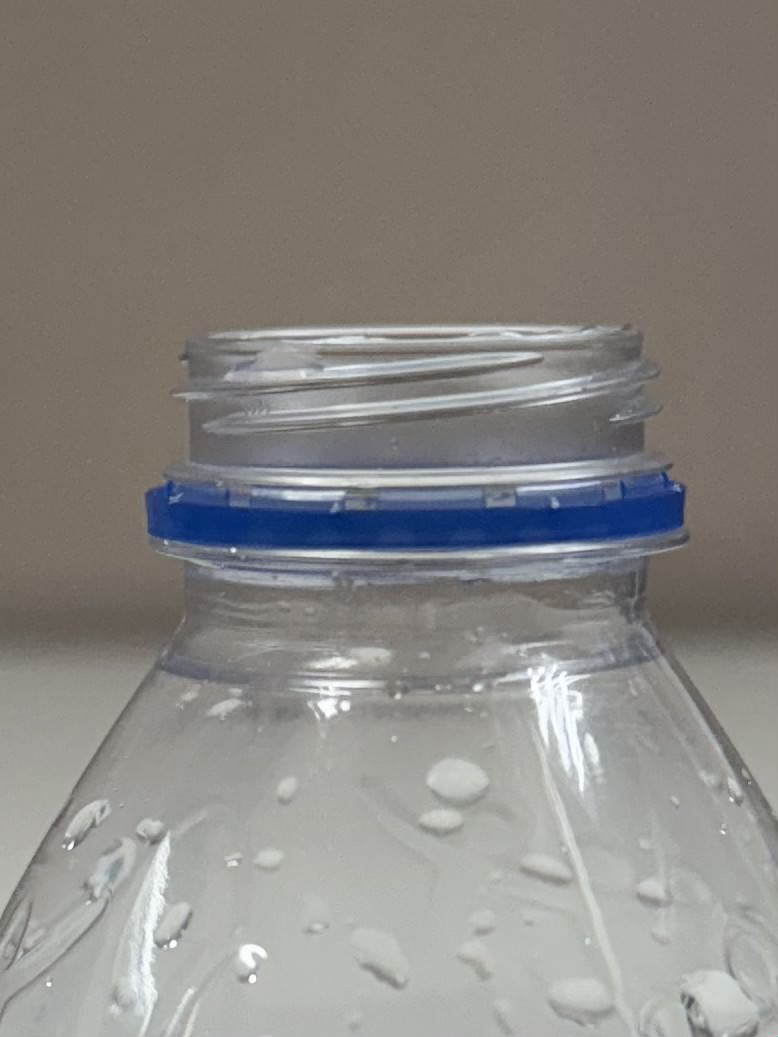no_cap: (140, 314, 694, 587)
